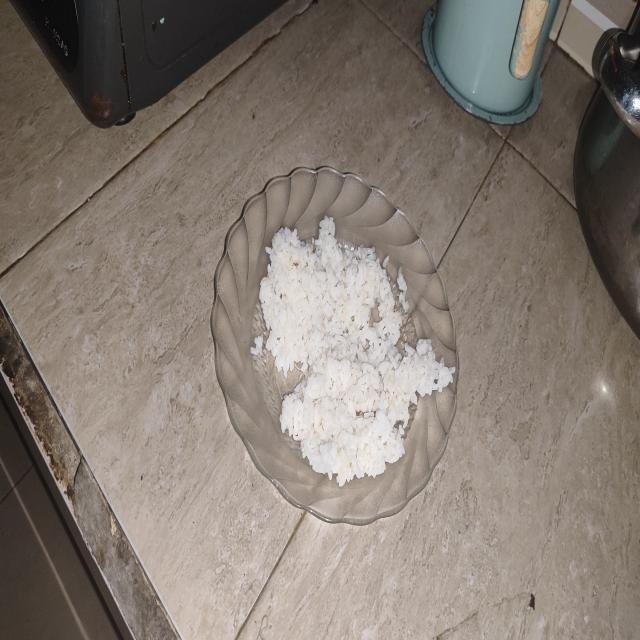nasi_putih: (260, 216, 454, 486)
